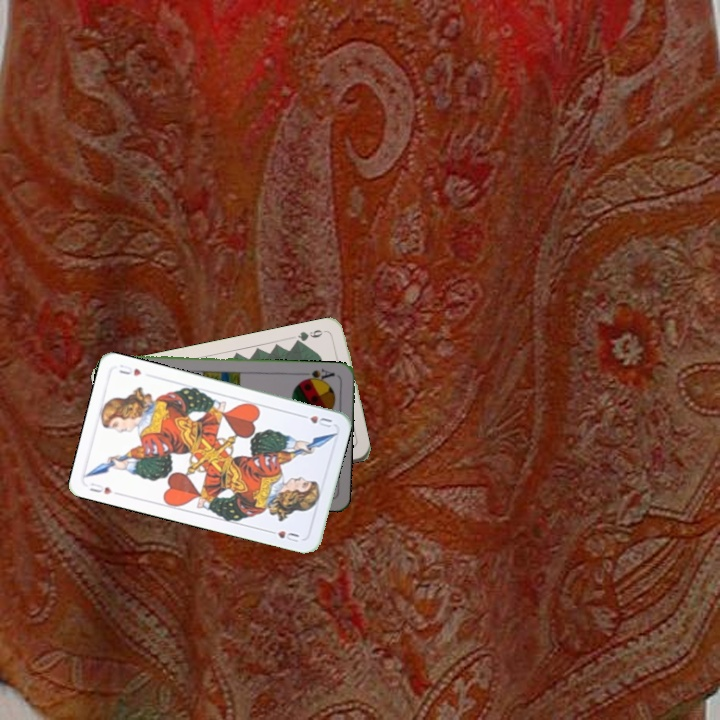G9: (291, 325, 330, 346)
HU: (295, 410, 335, 430), (86, 479, 115, 497)
SA: (298, 365, 337, 385)
